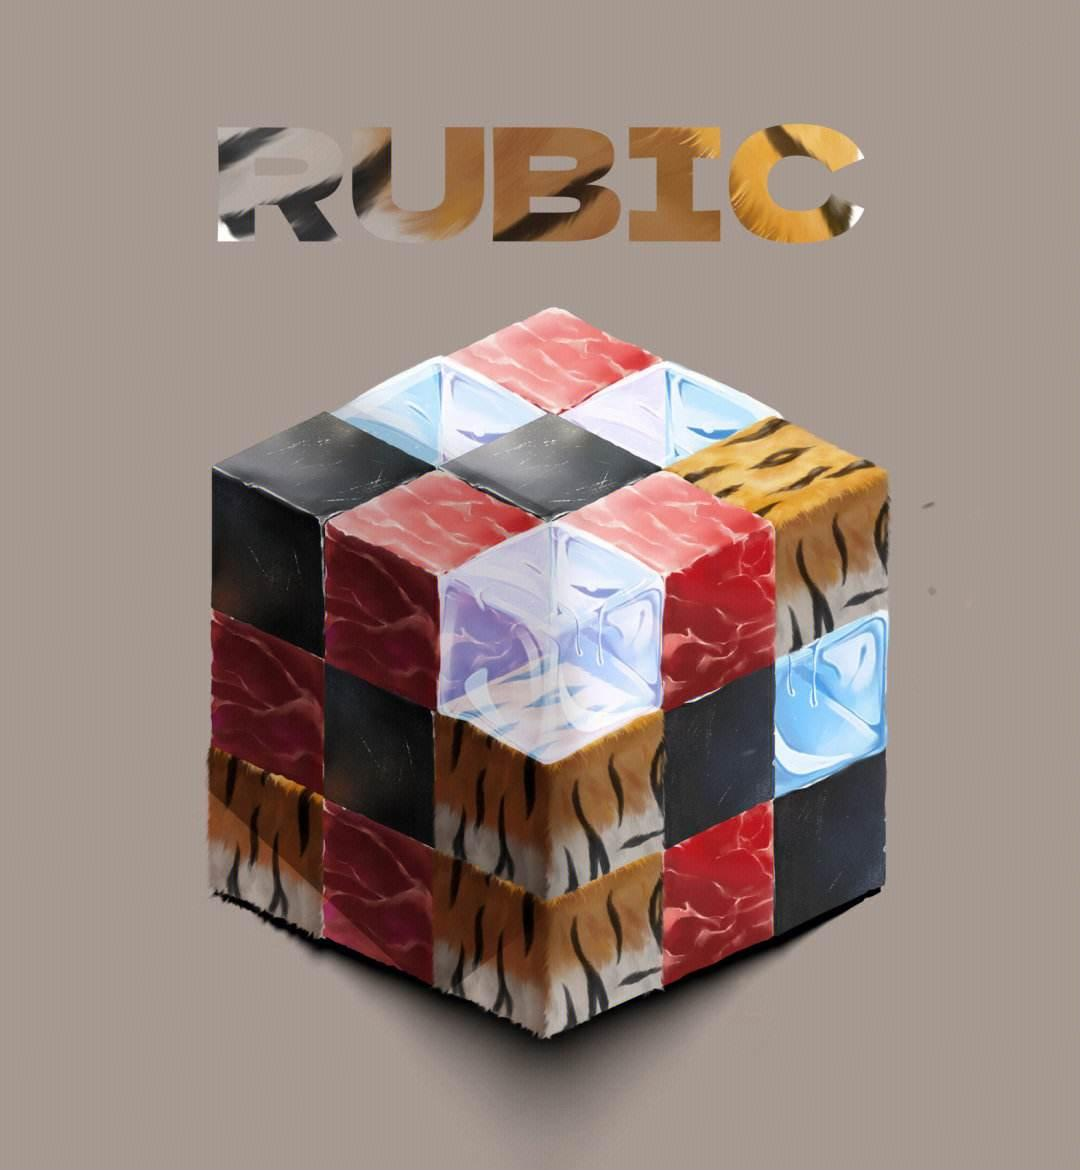cube: (160, 282, 970, 1086)
